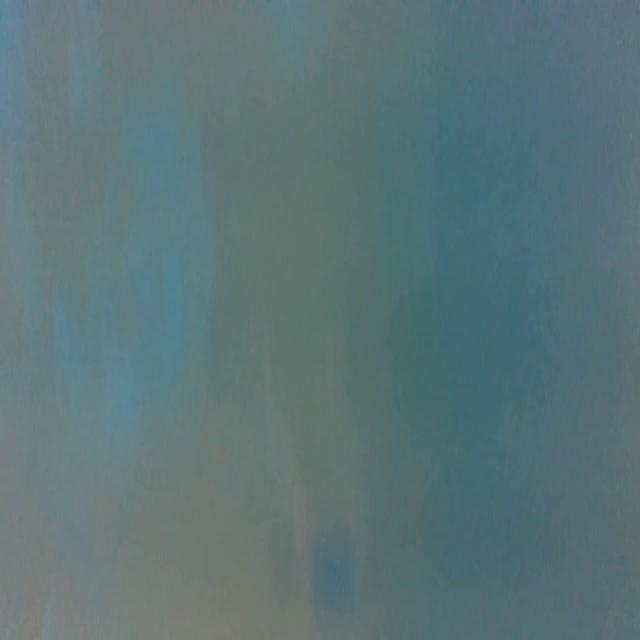plastic bottle: (228, 295, 377, 625)
